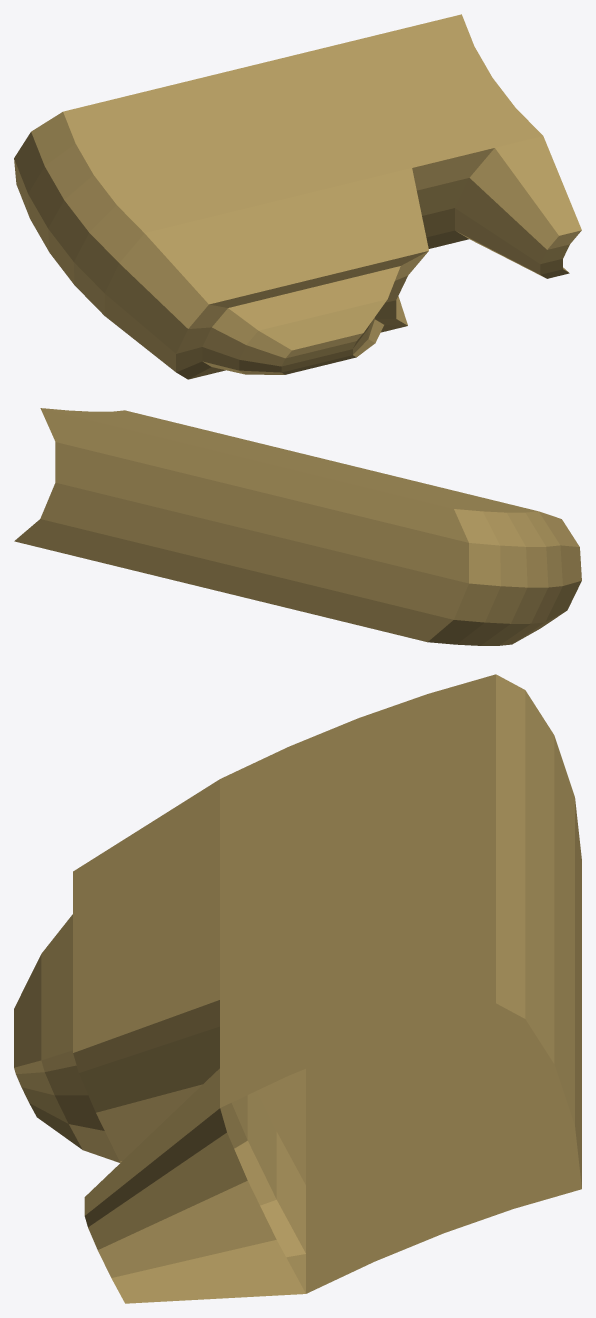
File: chiavepezzo3.fbx
3 views of the same model, one above another, from view 1: azimuth 30°, elevation 25°; view 2: azimuth 150°, elevation 25°; view 3: azimuth 270°, elevation 25° (orthographic). The views are drawn at different scales.
Visible parts, largest first — view 1: Torus.005; view 2: Torus.005; view 3: Torus.005.
Boxes of the visible parts, x1,y1,x2,y2 form: Torus.005: (14, 14, 581, 379); Torus.005: (14, 408, 581, 645); Torus.005: (14, 674, 581, 1303).
Size of the model in its own units: 8.46 by 3.6 by 5.57.
